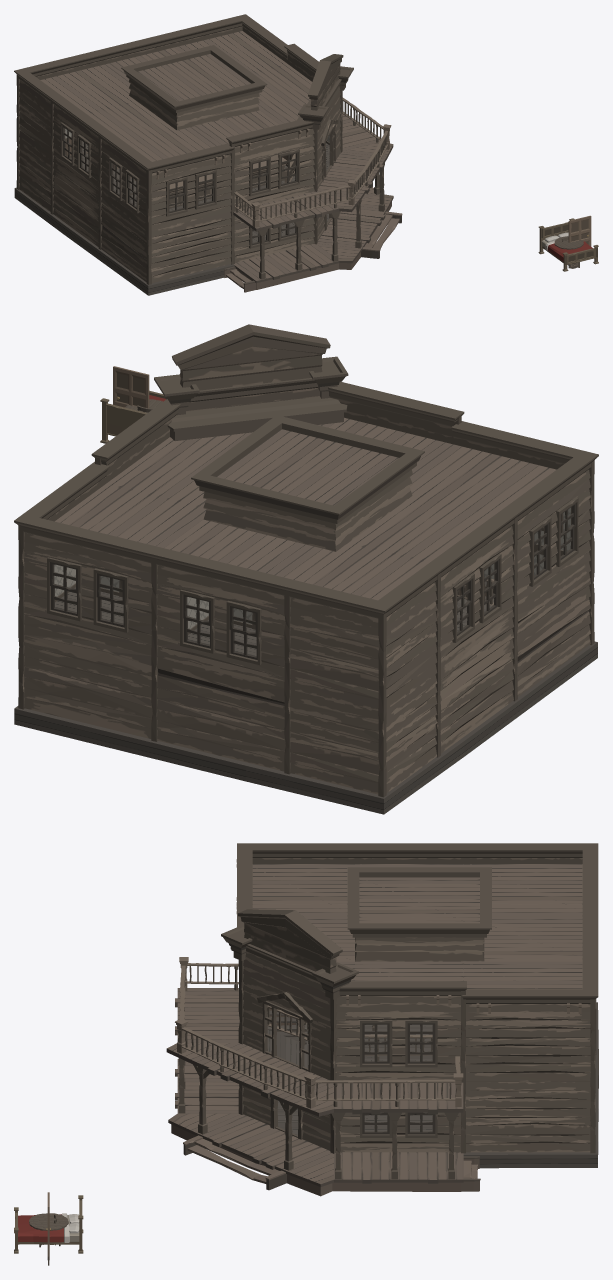
The model's file is all_objects_saloon.obj.
3 views of the same model, one above another, from view 1: azimuth 30°, elevation 25°; view 2: azimuth 150°, elevation 25°; view 3: azimuth 270°, elevation 25° (orthographic). The views are drawn at different scales.
Parts seen in each view (by area): view 1: saloon_SM_Bld_Saloon_01_27_SM_Bld_Saloon_01, lit_double_SM_Prop_Bed_01_281_SM_Prop_Bed_01, porte_chambre_SM_Bld_Saloon_RoomDoor_01_273_SM_Bld_Saloon_RoomDo; view 2: saloon_SM_Bld_Saloon_01_27_SM_Bld_Saloon_01, porte_chambre_SM_Bld_Saloon_RoomDoor_01_273_SM_Bld_Saloon_RoomDo, lit_double_SM_Prop_Bed_01_281_SM_Prop_Bed_01; view 3: saloon_SM_Bld_Saloon_01_27_SM_Bld_Saloon_01, lit_double_SM_Prop_Bed_01_281_SM_Prop_Bed_01, table_SM_Prop_Table_3_SM_Prop_Table_01.
Boxes of the visible parts, box(x1,y1,x2,y2) form: saloon_SM_Bld_Saloon_01_27_SM_Bld_Saloon_01: box(14, 14, 402, 295); lit_double_SM_Prop_Bed_01_281_SM_Prop_Bed_01: box(538, 218, 598, 271); porte_chambre_SM_Bld_Saloon_RoomDoor_01_273_SM_Bld_Saloon_RoomDo: box(568, 215, 591, 246); saloon_SM_Bld_Saloon_01_27_SM_Bld_Saloon_01: box(14, 324, 598, 814); porte_chambre_SM_Bld_Saloon_RoomDoor_01_273_SM_Bld_Saloon_RoomDo: box(113, 366, 149, 408); lit_double_SM_Prop_Bed_01_281_SM_Prop_Bed_01: box(100, 390, 165, 443); saloon_SM_Bld_Saloon_01_27_SM_Bld_Saloon_01: box(166, 843, 598, 1196); lit_double_SM_Prop_Bed_01_281_SM_Prop_Bed_01: box(14, 1195, 83, 1253); table_SM_Prop_Table_3_SM_Prop_Table_01: box(29, 1213, 68, 1247).
Size of what is drawn, in the model's own units: 22.45 by 10.42 by 22.58.
1 material, 1 textured.
